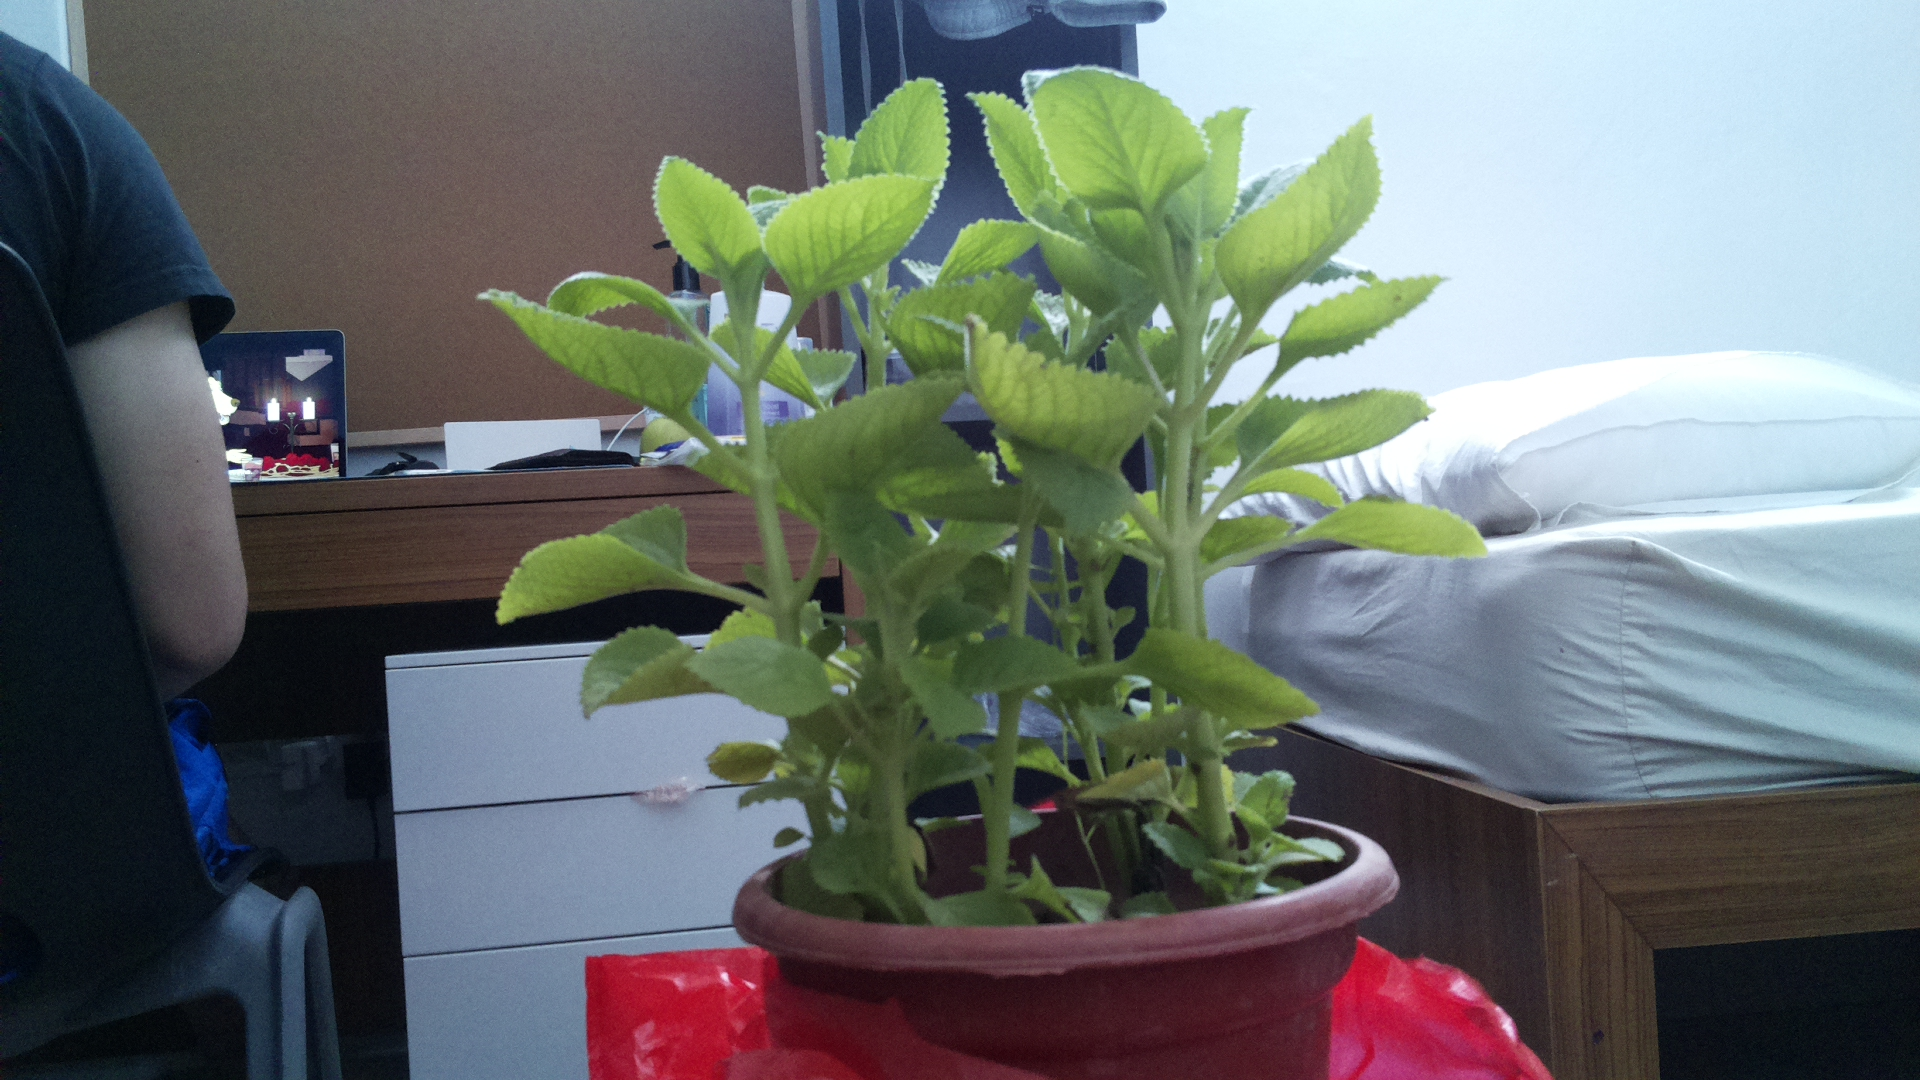leaf: (477, 272, 727, 423), (1212, 119, 1389, 323), (955, 314, 1164, 481), (488, 487, 711, 634), (1019, 57, 1208, 211), (789, 363, 960, 526), (1121, 625, 1353, 738), (1220, 485, 1505, 578), (767, 174, 940, 301), (1255, 262, 1444, 375), (1245, 386, 1437, 479), (655, 142, 775, 284), (588, 617, 735, 723), (703, 637, 845, 723), (856, 70, 947, 186), (899, 646, 982, 745)
